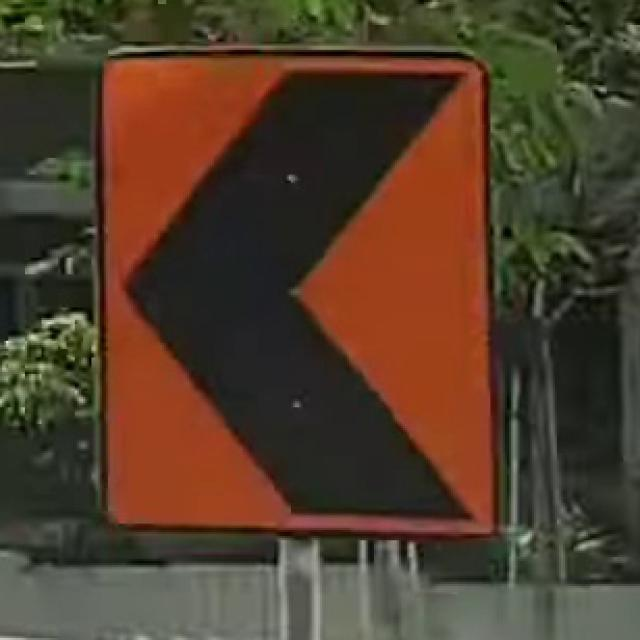curveleft_sign: (89, 41, 507, 542)
